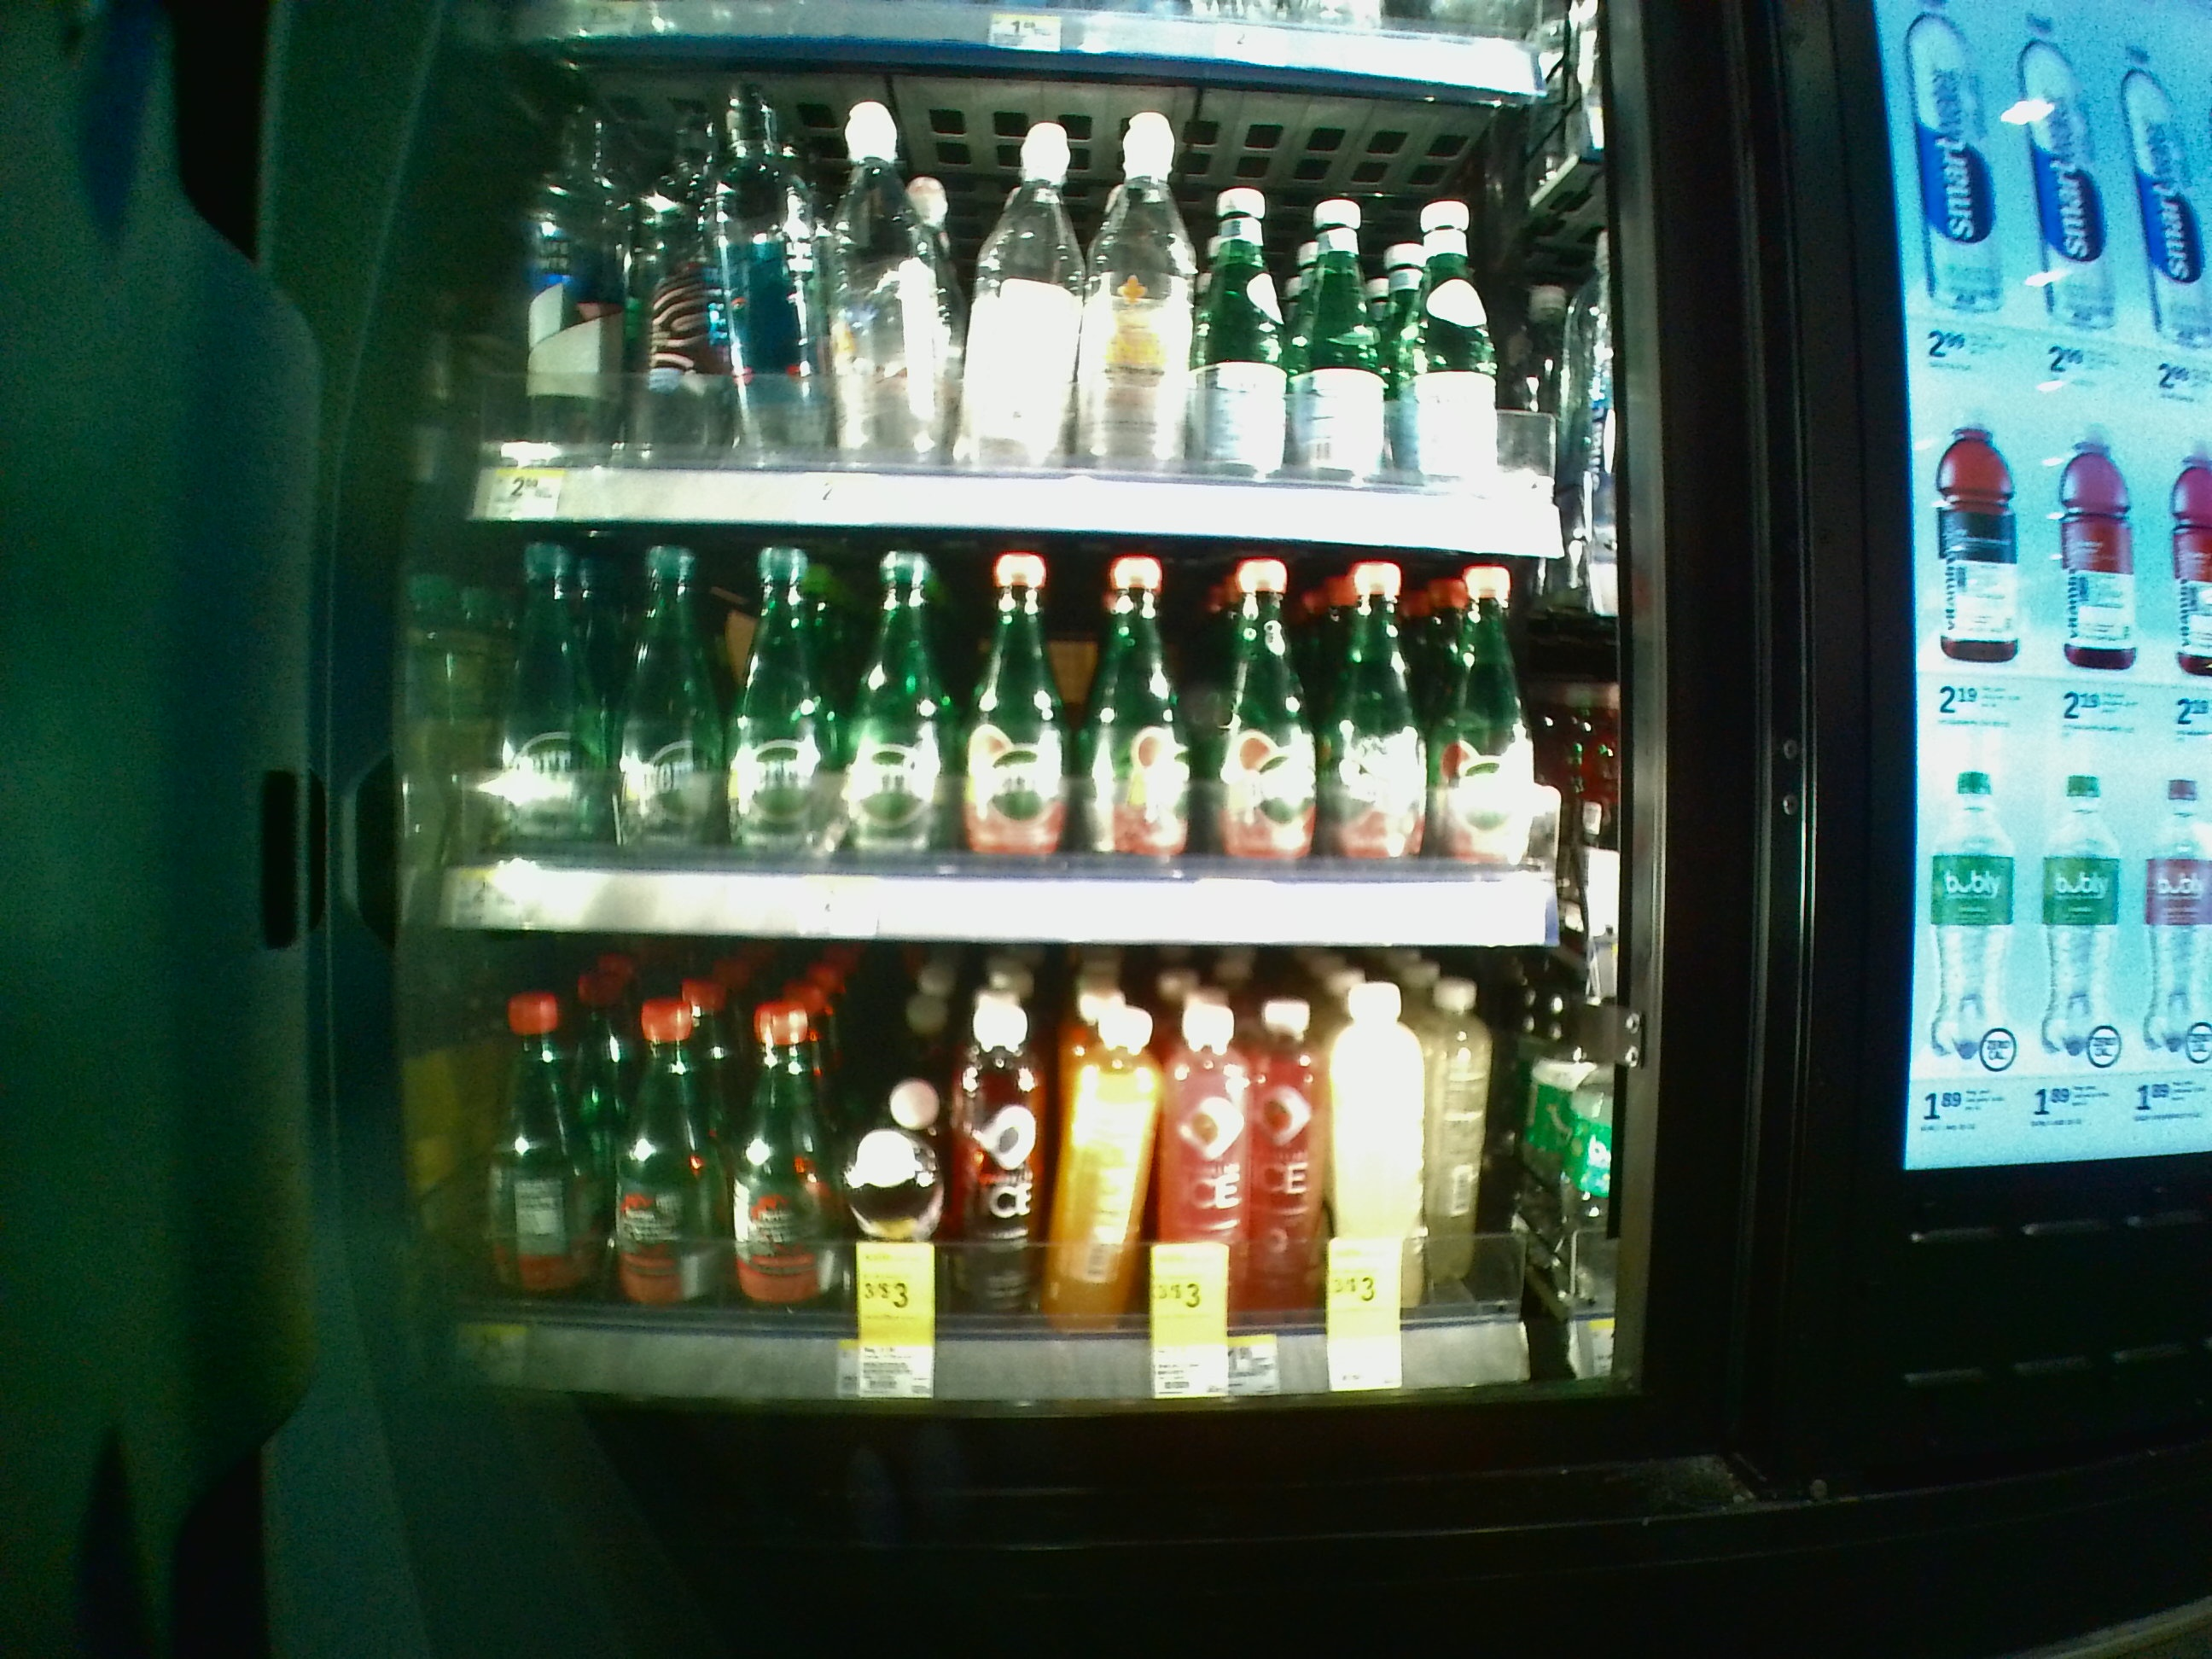Shelf: (425, 957, 1616, 1419), (449, 521, 1609, 955)
